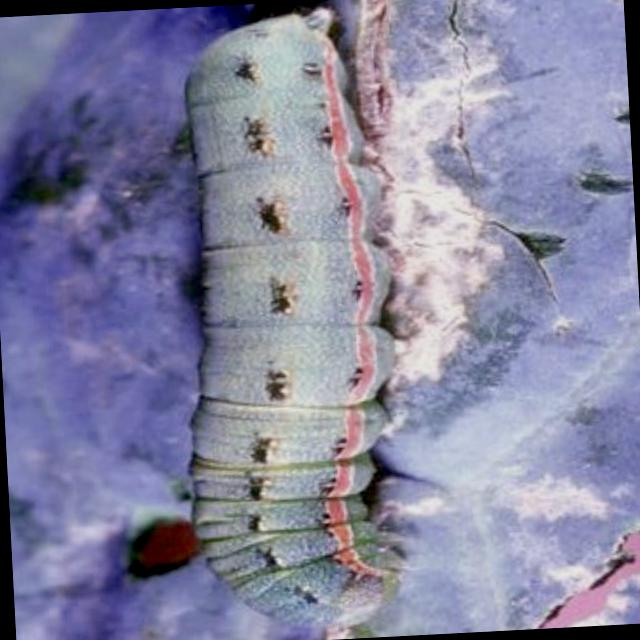Beet armyworm: (135, 0, 527, 640)
